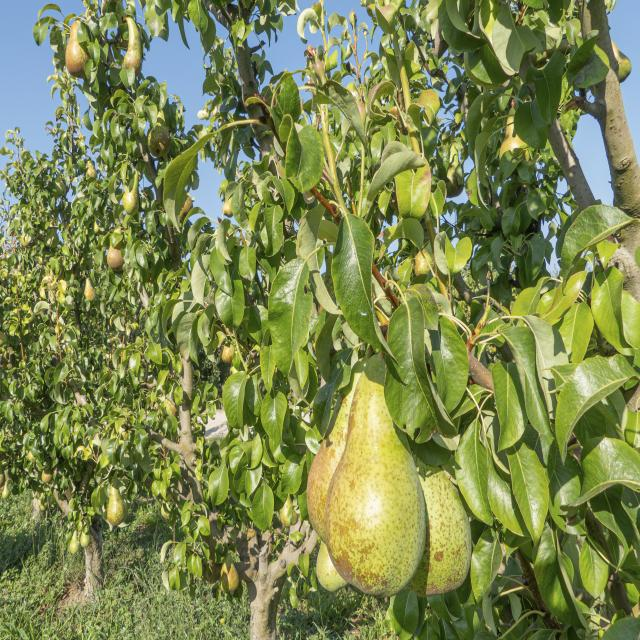pera: (322, 348, 438, 604)
